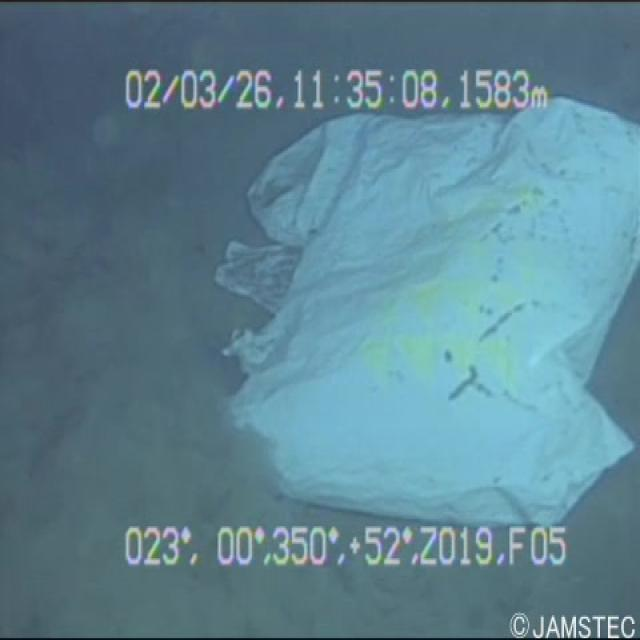plastic: (204, 68, 639, 544)
